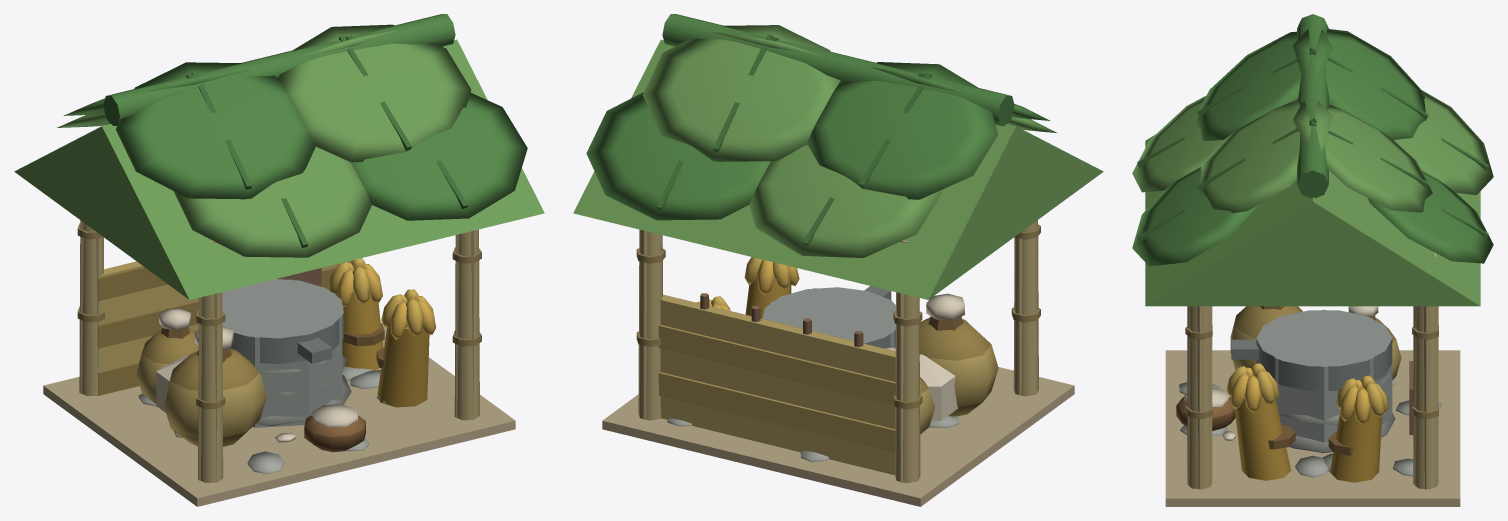
Rendered from quern_house.glb.
The picture shows the model from 3 angles, left to right: view 1: azimuth 30°, elevation 25°; view 2: azimuth 150°, elevation 25°; view 3: azimuth 270°, elevation 25°; orthographic projection. The views are drawn at different scales.
Visible parts, largest first — view 1: body, body__far, body_nl; view 2: body, body__far, body_nl; view 3: body, body__far, body_nl.
Part boxes in pixels (x1=…): body: x1=43, y1=14, x2=527, y2=506; body__far: x1=14, y1=39, x2=544, y2=482; body_nl: x1=79, y1=220, x2=479, y2=482; body: x1=586, y1=14, x2=1074, y2=506; body__far: x1=573, y1=39, x2=1103, y2=482; body_nl: x1=638, y1=220, x2=1038, y2=483; body: x1=1132, y1=14, x2=1493, y2=506; body__far: x1=1145, y1=99, x2=1480, y2=489; body_nl: x1=1177, y1=253, x2=1437, y2=489.
Bounding box in the file's own units: 1.75 × 1.7 × 1.6.
